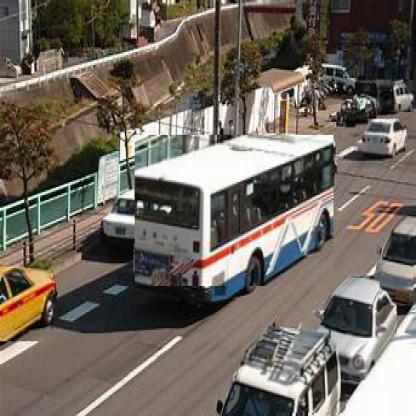bus: (136, 136, 336, 289)
car: (228, 326, 348, 415), (325, 277, 399, 383), (2, 267, 56, 344), (381, 217, 416, 308), (357, 120, 409, 159), (319, 63, 364, 94), (378, 81, 416, 115)
motorbike: (108, 187, 137, 247)
